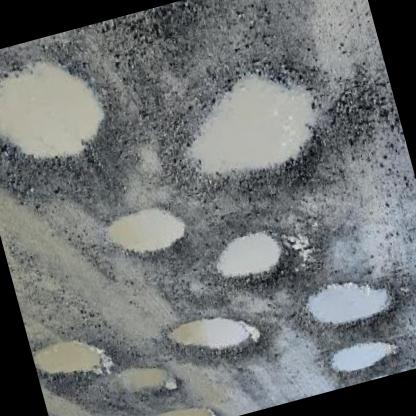pothole: (160, 49, 346, 211), (0, 41, 126, 188), (294, 266, 405, 349), (162, 300, 272, 382), (102, 198, 198, 272), (210, 224, 295, 298), (31, 329, 114, 393), (326, 334, 406, 384), (109, 356, 177, 405), (149, 395, 222, 416)
